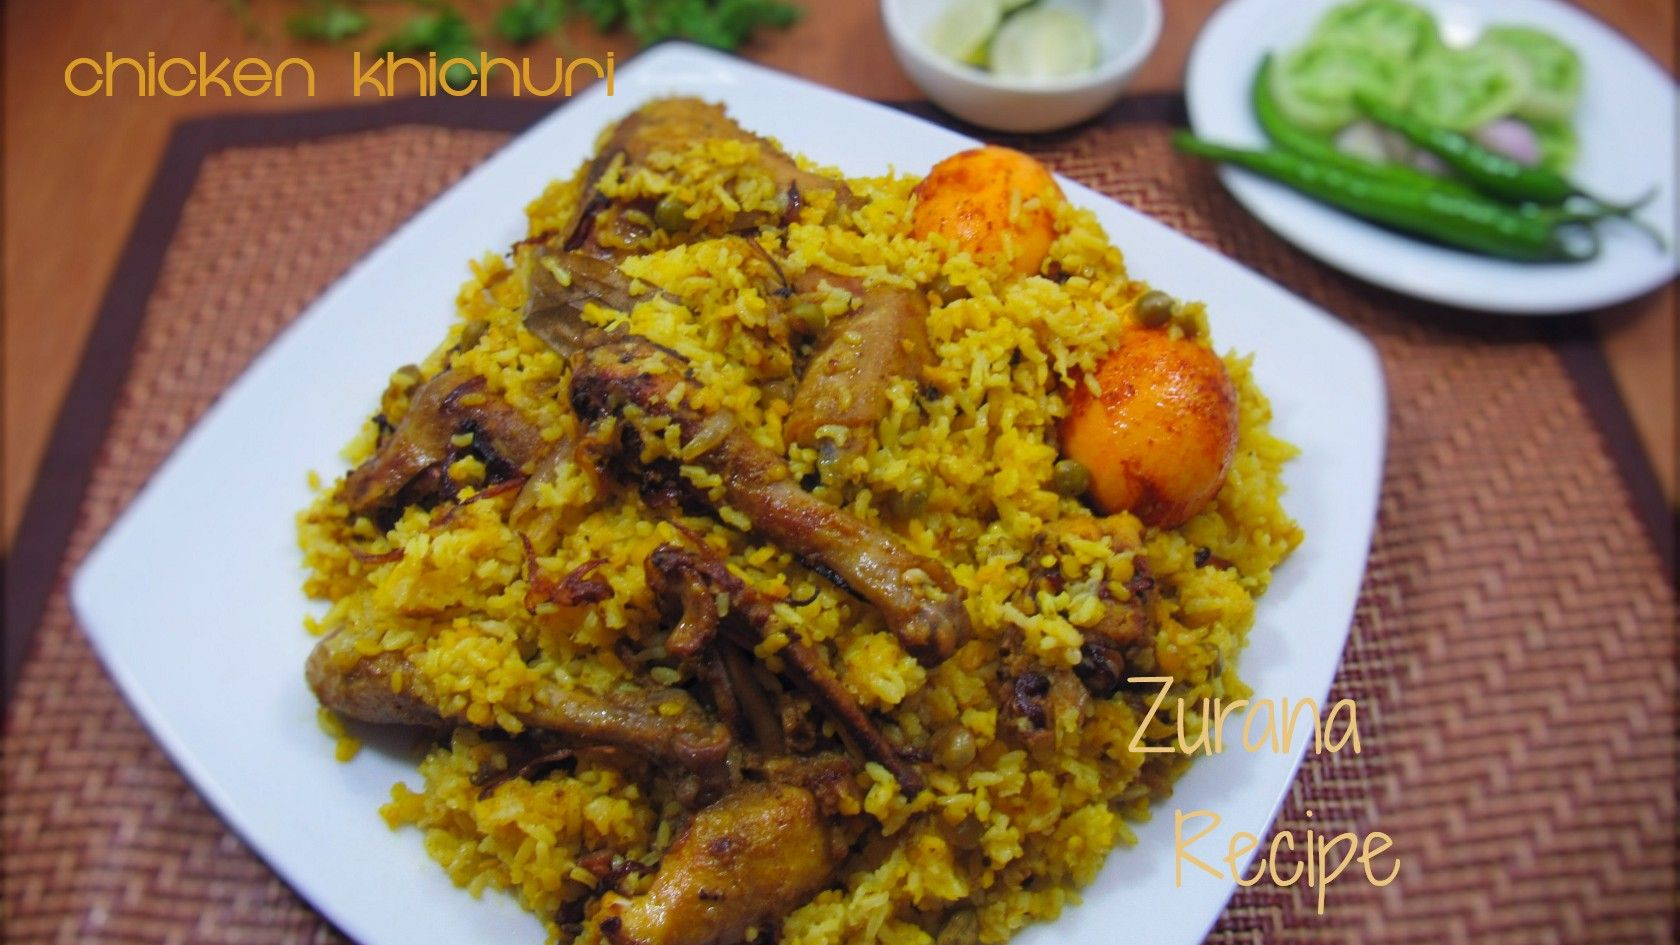khichuri: (293, 105, 1315, 945)
